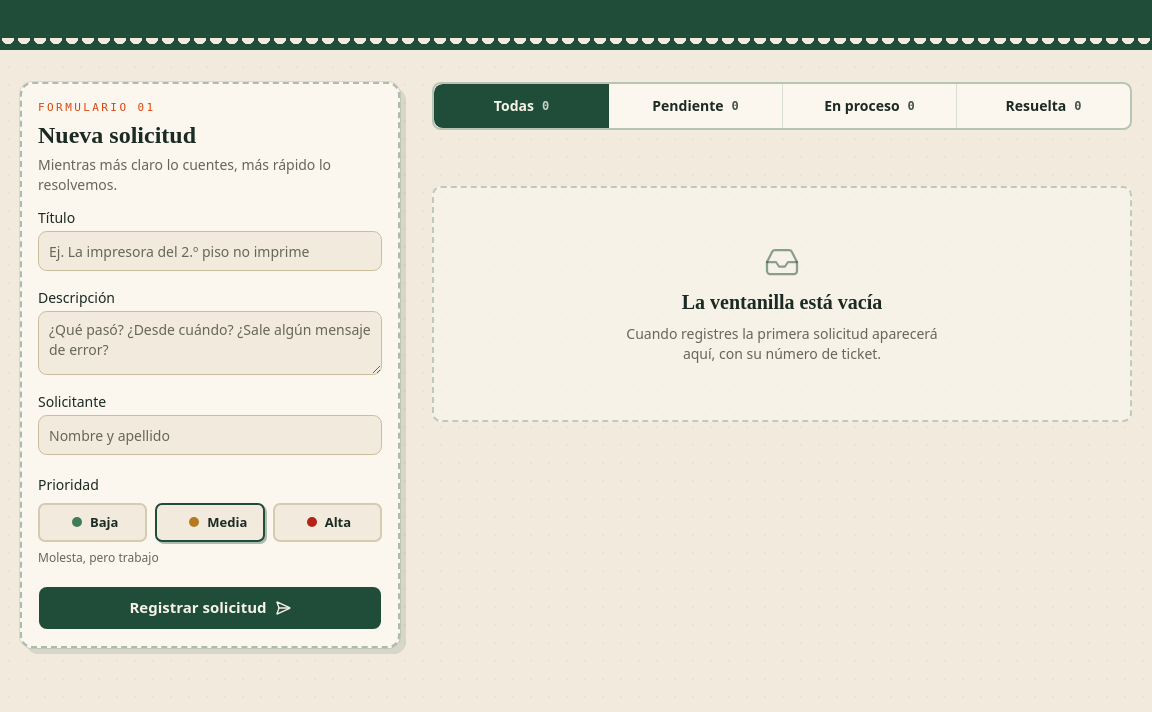
Test case: Ventanilla TI › el error de un campo desaparece al escribir en él
(page scrolled)
Click the button "Registrar solicitud": x=210, y=608 left=38, top=586, right=382, bottom=630
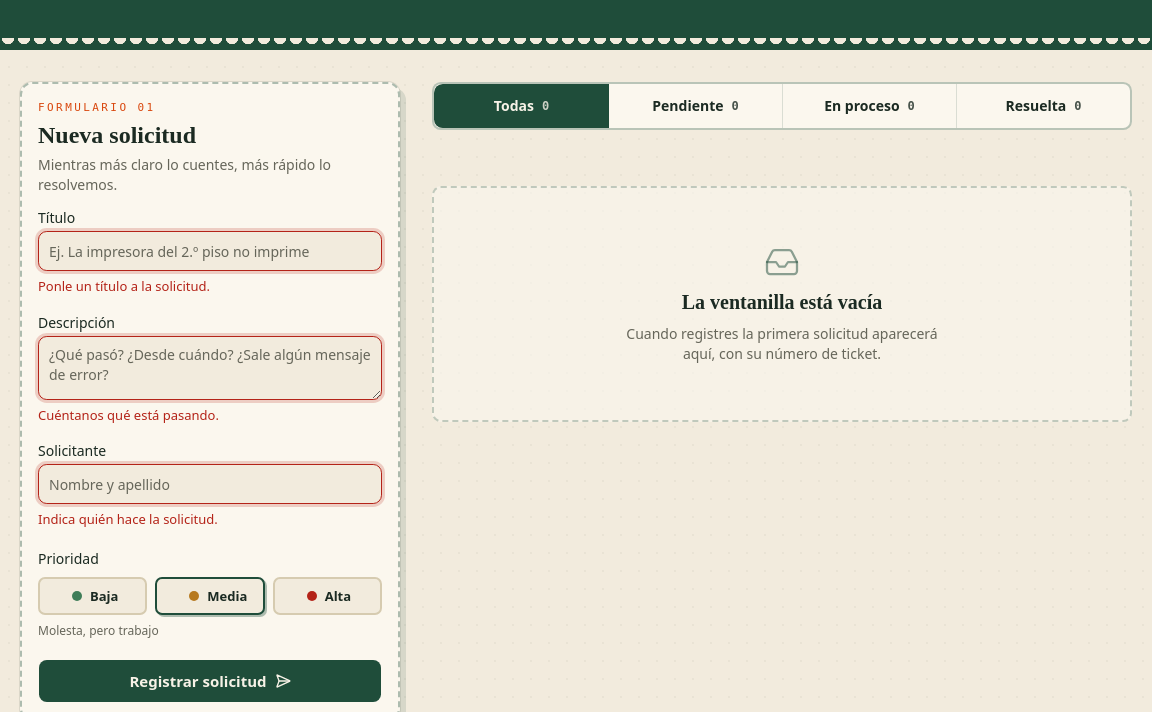
Expected: the text "Ponle un título a la solicitud." is shown, left=38, top=277, right=210, bottom=295
In the field labelled "Título": x=210, y=251 left=38, top=231, right=382, bottom=271, type "Sin red"
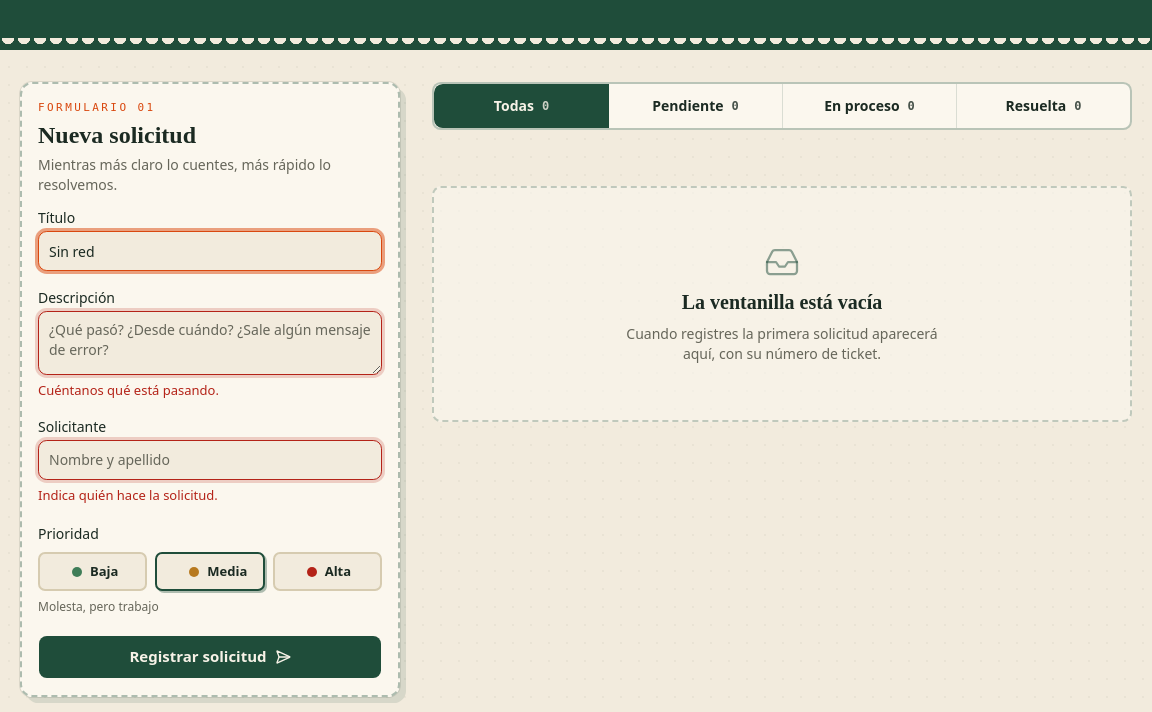
Expected: the text "Ponle un título a la solicitud." is gone
